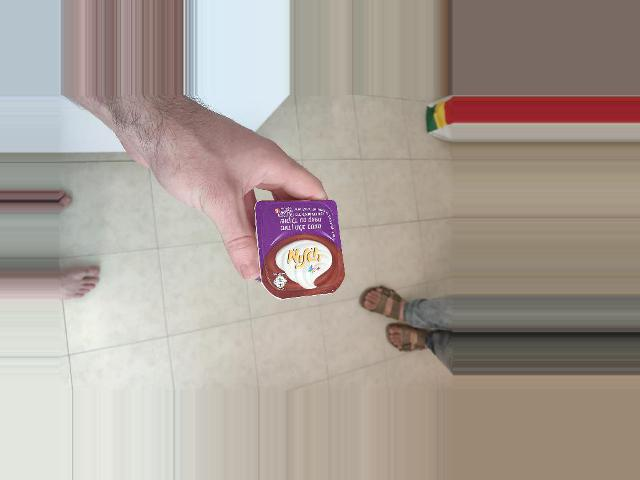milky: (270, 204, 364, 315)
